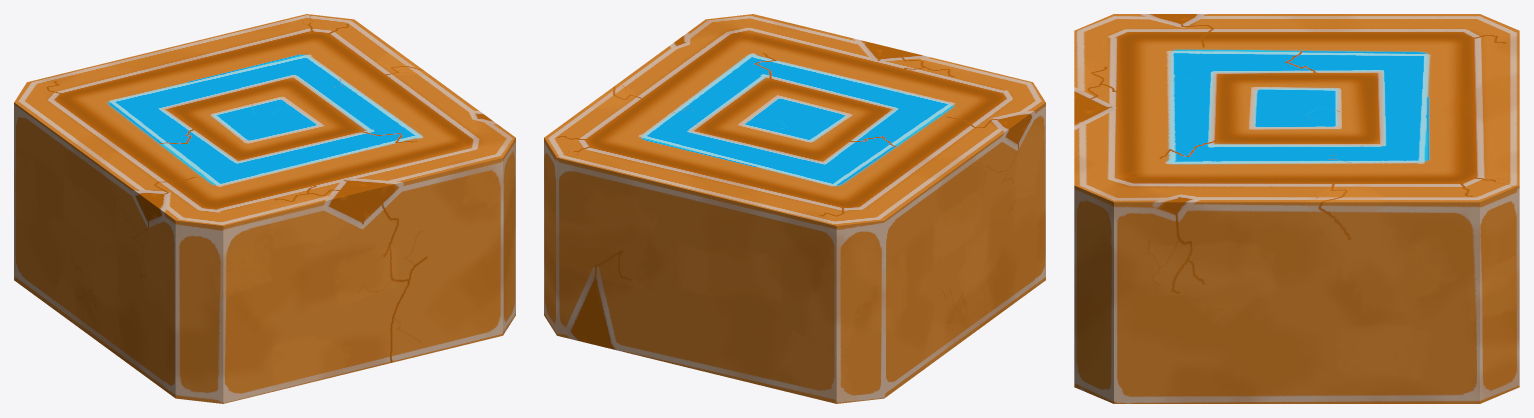
The model's file is piece.glb.
The picture shows the model from 3 angles, left to right: view 1: azimuth 30°, elevation 25°; view 2: azimuth 150°, elevation 25°; view 3: azimuth 270°, elevation 25°; orthographic projection. The views are drawn at different scales.
Visible parts, largest first — view 1: meeple_square_blue; view 2: meeple_square_blue; view 3: meeple_square_blue.
Boxes of the visible parts, x1=… form: meeple_square_blue: x1=14, y1=14, x2=515, y2=403; meeple_square_blue: x1=544, y1=14, x2=1045, y2=403; meeple_square_blue: x1=1074, y1=14, x2=1519, y2=403.
Bounding box in the file's own units: 0.5 × 0.25 × 0.5.
Materials: 1 (1 with a texture image).
